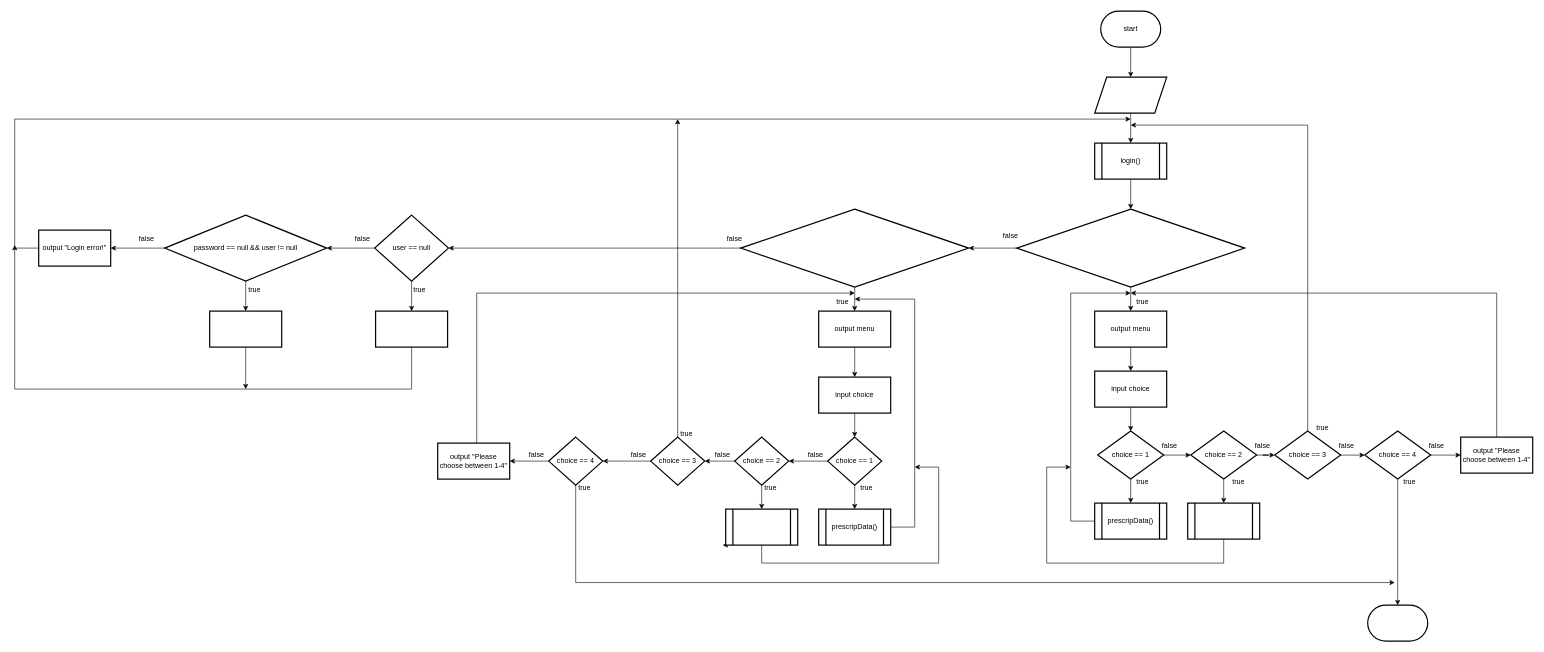
The diagram is 1544 pixels wide and 652 high, and some of its shapes have lost their labels. The shapes that lost their labels are listed below. From the top down, each one's centre as x and y in pixels, then its label:
pixel 1130 94: int coice
pixel 854 247: user != null && password != null && level == "admin"
pixel 1130 247: user != null && password != null && level == "user"
pixel 245 328: output "Password wrong!"
pixel 411 328: output "Username not found!"
pixel 761 526: memberData()
pixel 1223 520: cashier
pixel 1397 622: end
